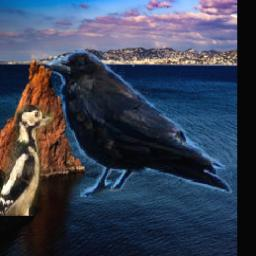Crow: (44, 49, 232, 197)
Woodpecker: (0, 106, 54, 217)
